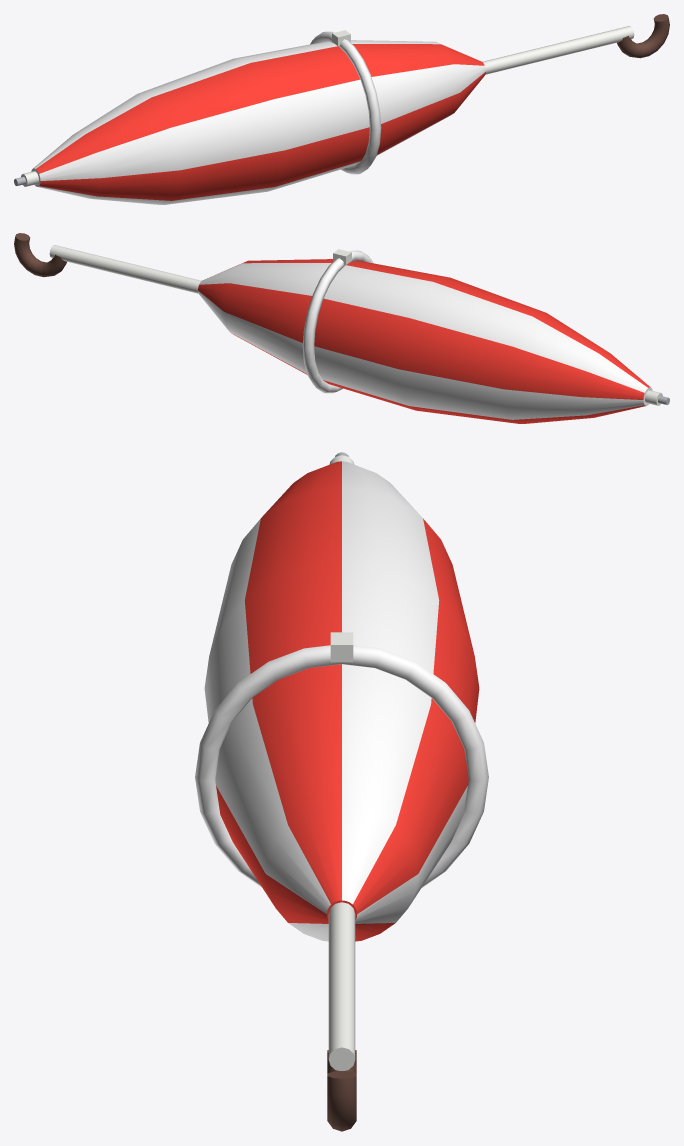
File: umbrella.fbx
3 renders of one model, top to bottom at view 1: azimuth 30°, elevation 25°; view 2: azimuth 150°, elevation 25°; view 3: azimuth 270°, elevation 25°, orthographic. The views are drawn at different scales.
Visible parts, largest first — view 1: Beach Umbrella; view 2: Beach Umbrella; view 3: Beach Umbrella.
Part boxes in pixels (bbox=[...]): Beach Umbrella: bbox=[14, 14, 669, 204]; Beach Umbrella: bbox=[14, 233, 669, 423]; Beach Umbrella: bbox=[195, 452, 488, 1131].
Size of the model in its own units: 3.95 by 0.785 by 0.77.
